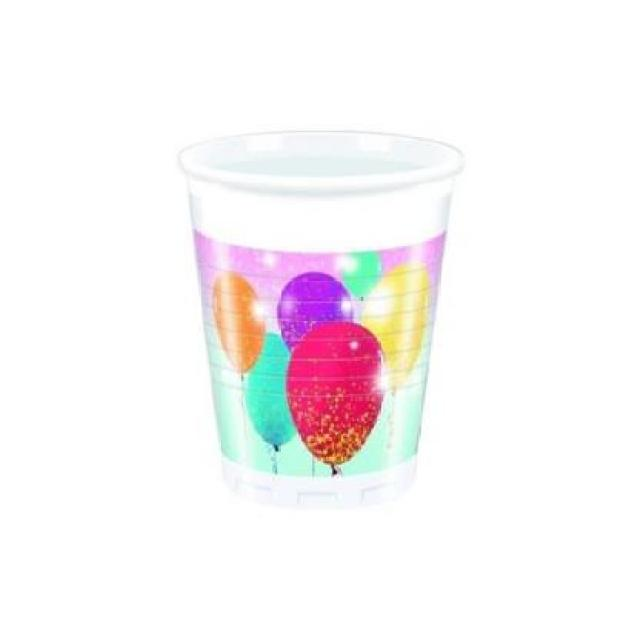non-biodegradable: (171, 121, 463, 518)
